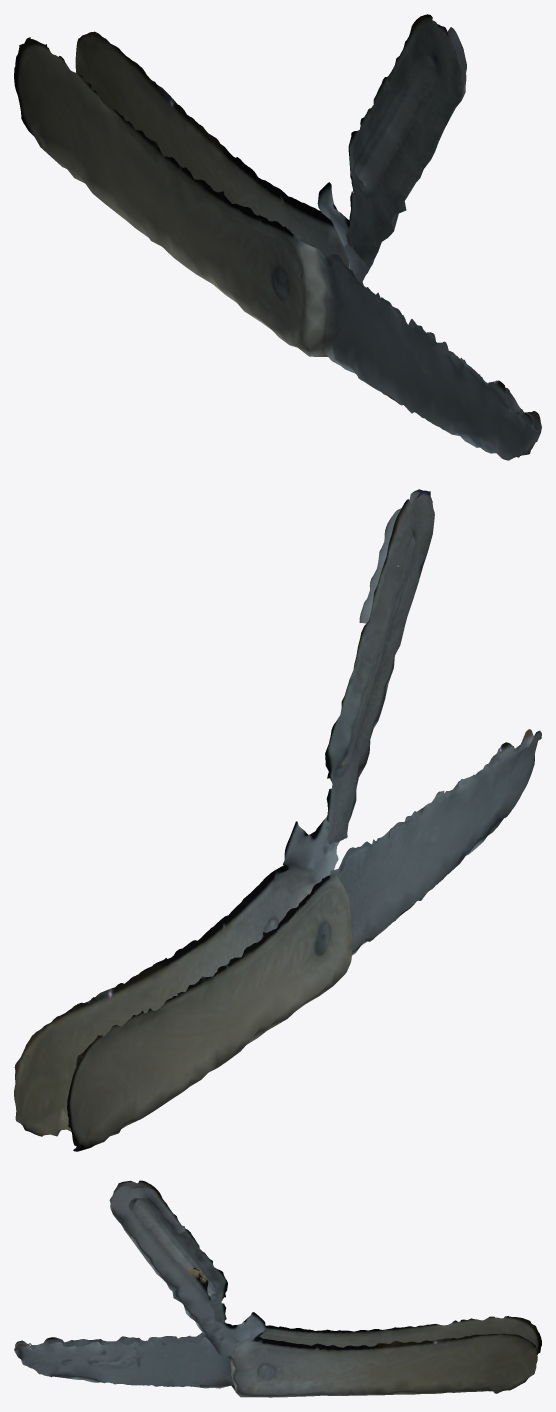
File: scan_align.obj
3 views of the same model, one above another, from view 1: azimuth 30°, elevation 25°; view 2: azimuth 150°, elevation 25°; view 3: azimuth 270°, elevation 25° (orthographic). The views are drawn at different scales.
Bounding box in the file's own units: 0.0122 × 0.0784 × 0.1735.
Materials: 1 (1 with a texture image).
